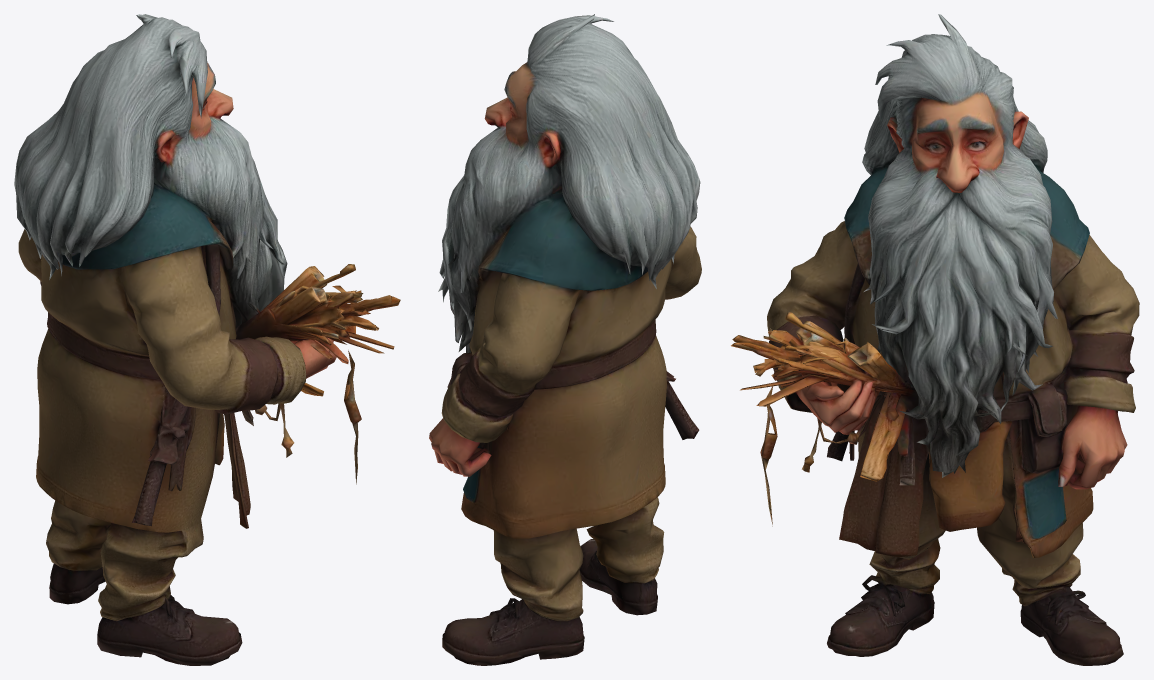
Rendered from hermit.glb.
The picture shows the model from 3 angles, left to right: view 1: azimuth 30°, elevation 25°; view 2: azimuth 150°, elevation 25°; view 3: azimuth 270°, elevation 25°; orthographic projection. The views are drawn at different scales.
Visible parts, largest first — view 1: tripo_node_55c2a186-8091-449f-b467-14a922384b97; view 2: tripo_node_55c2a186-8091-449f-b467-14a922384b97; view 3: tripo_node_55c2a186-8091-449f-b467-14a922384b97.
Part boxes in pixels (x1,y1,x2,y2): tripo_node_55c2a186-8091-449f-b467-14a922384b97: (14,14,400,665); tripo_node_55c2a186-8091-449f-b467-14a922384b97: (429,14,701,665); tripo_node_55c2a186-8091-449f-b467-14a922384b97: (731,14,1139,665).
Bounding box in the file's own units: 0.5394 × 1.2 × 0.7171.
1 material, 1 textured.
